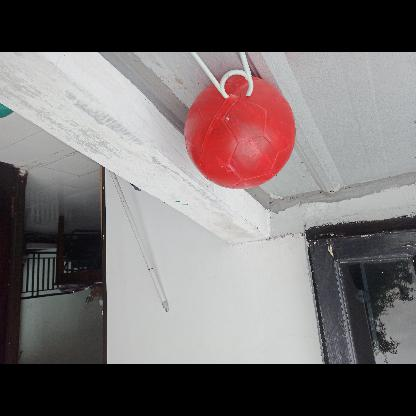red_ball: (187, 78, 299, 190)
